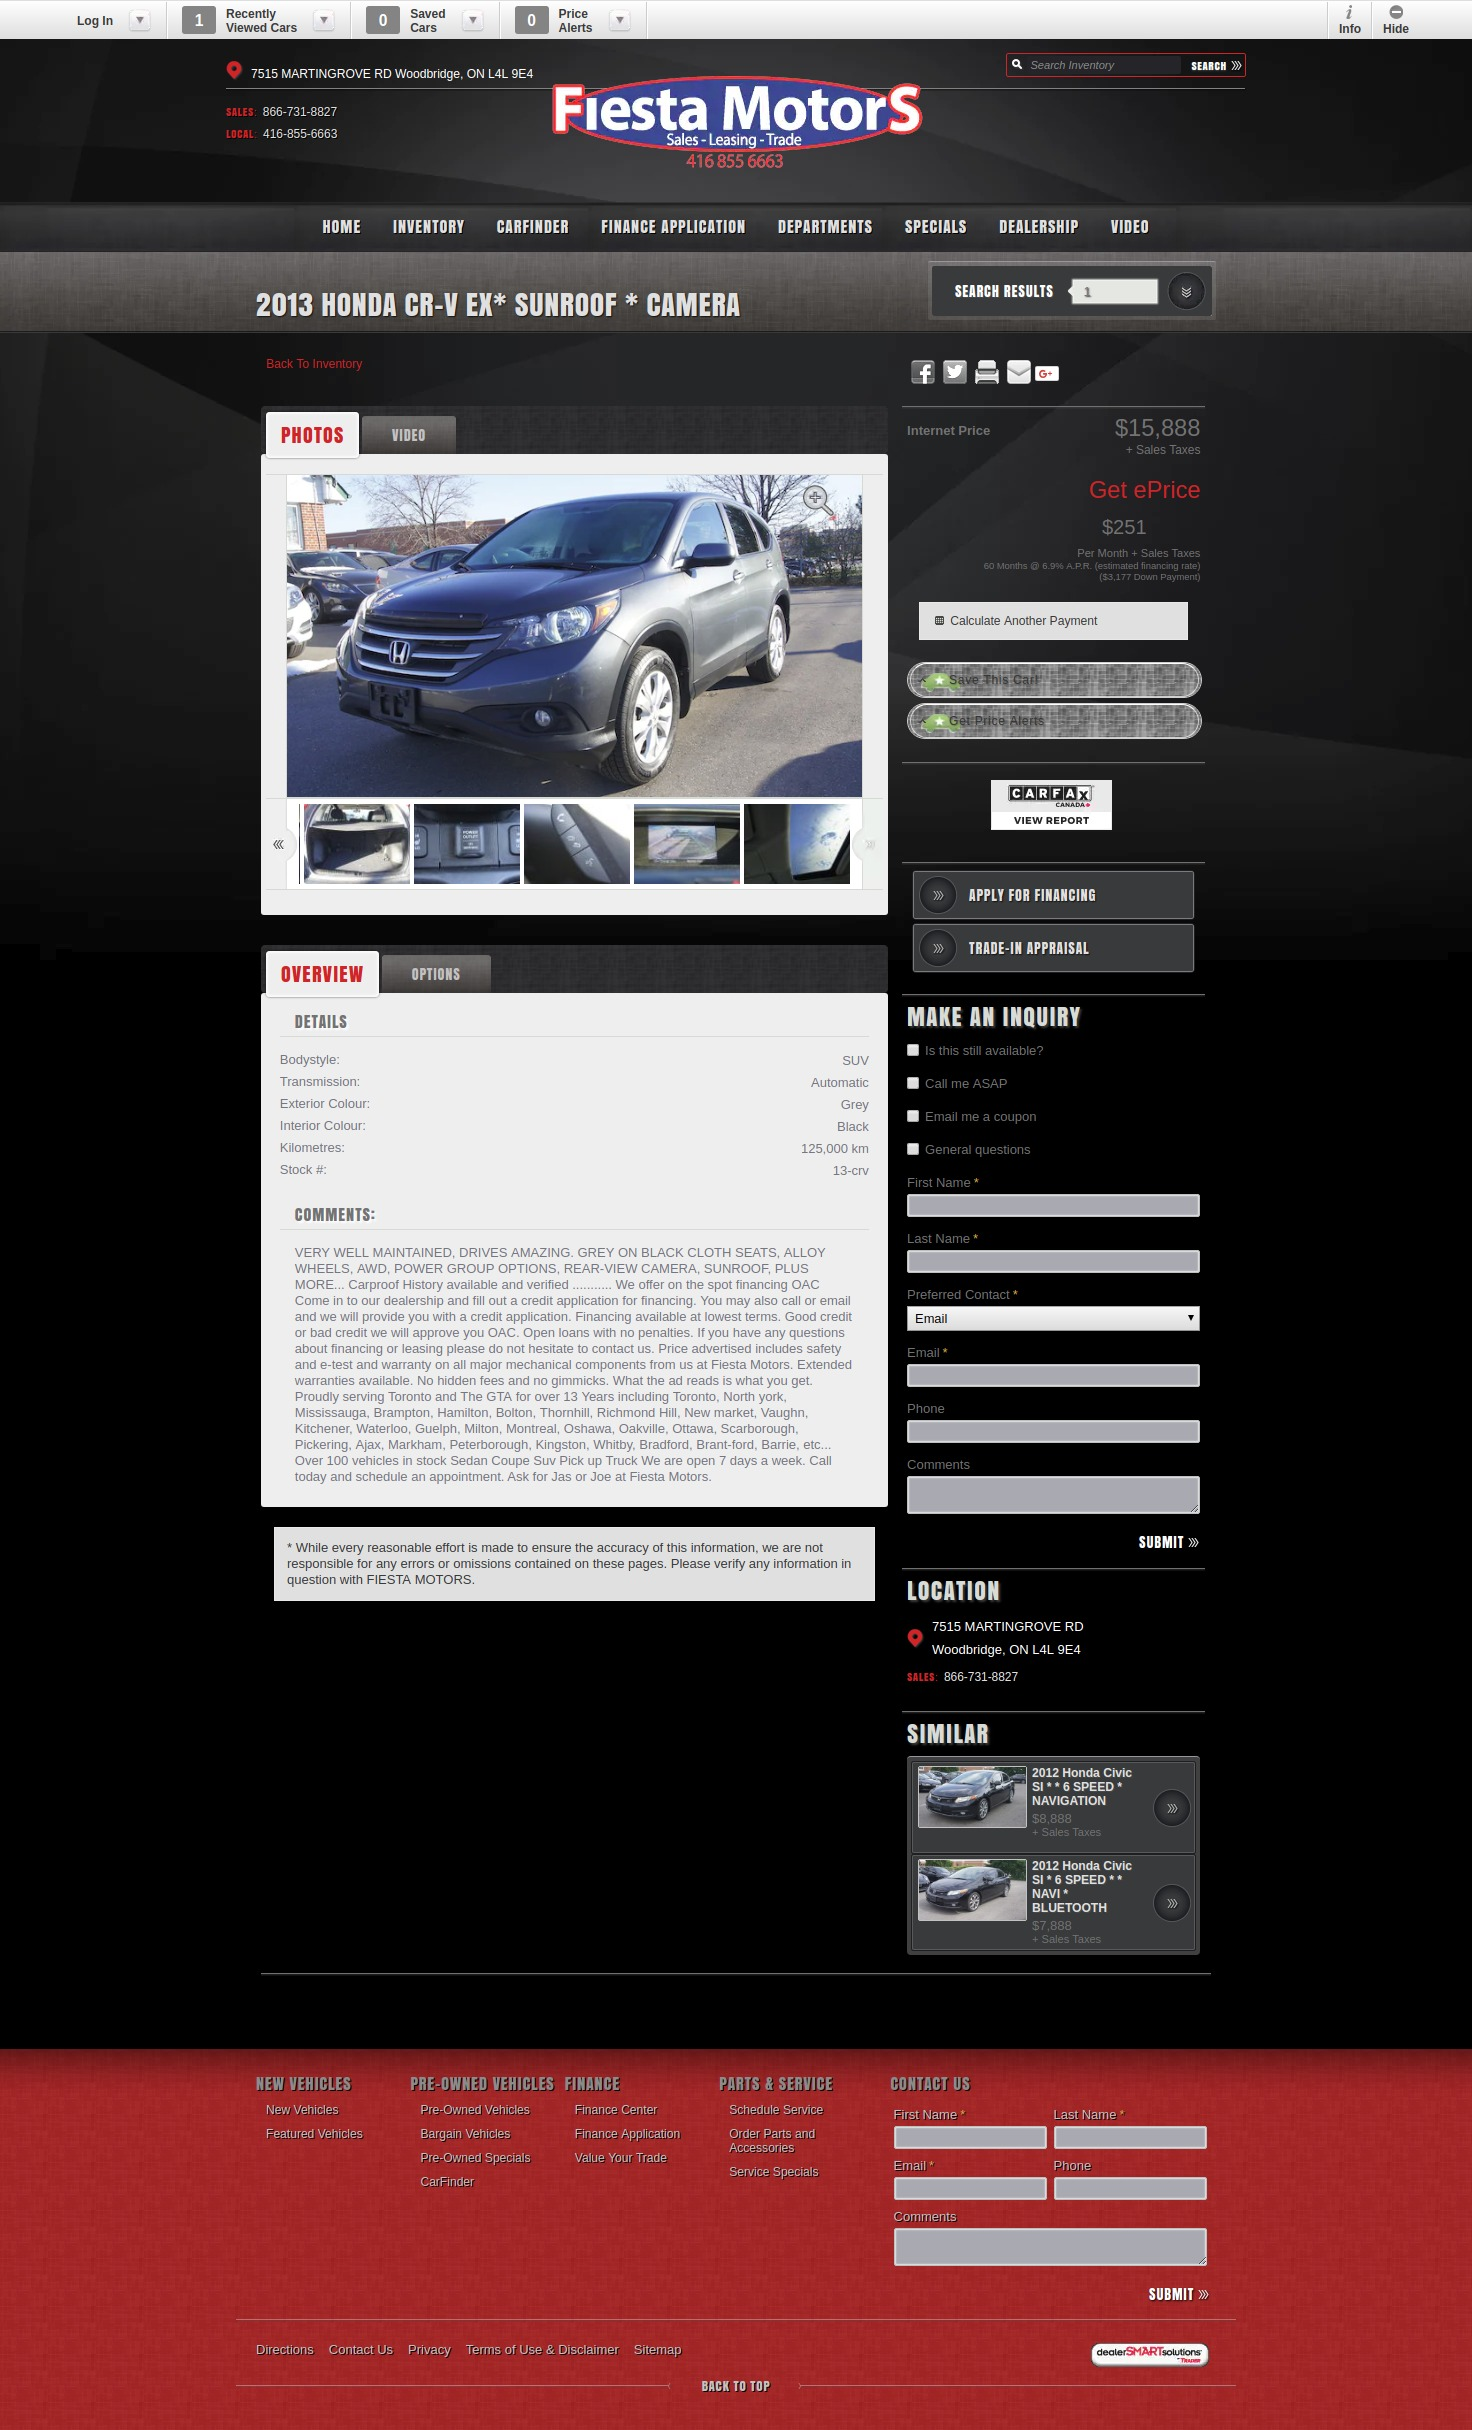car: (864, 840, 877, 850)
